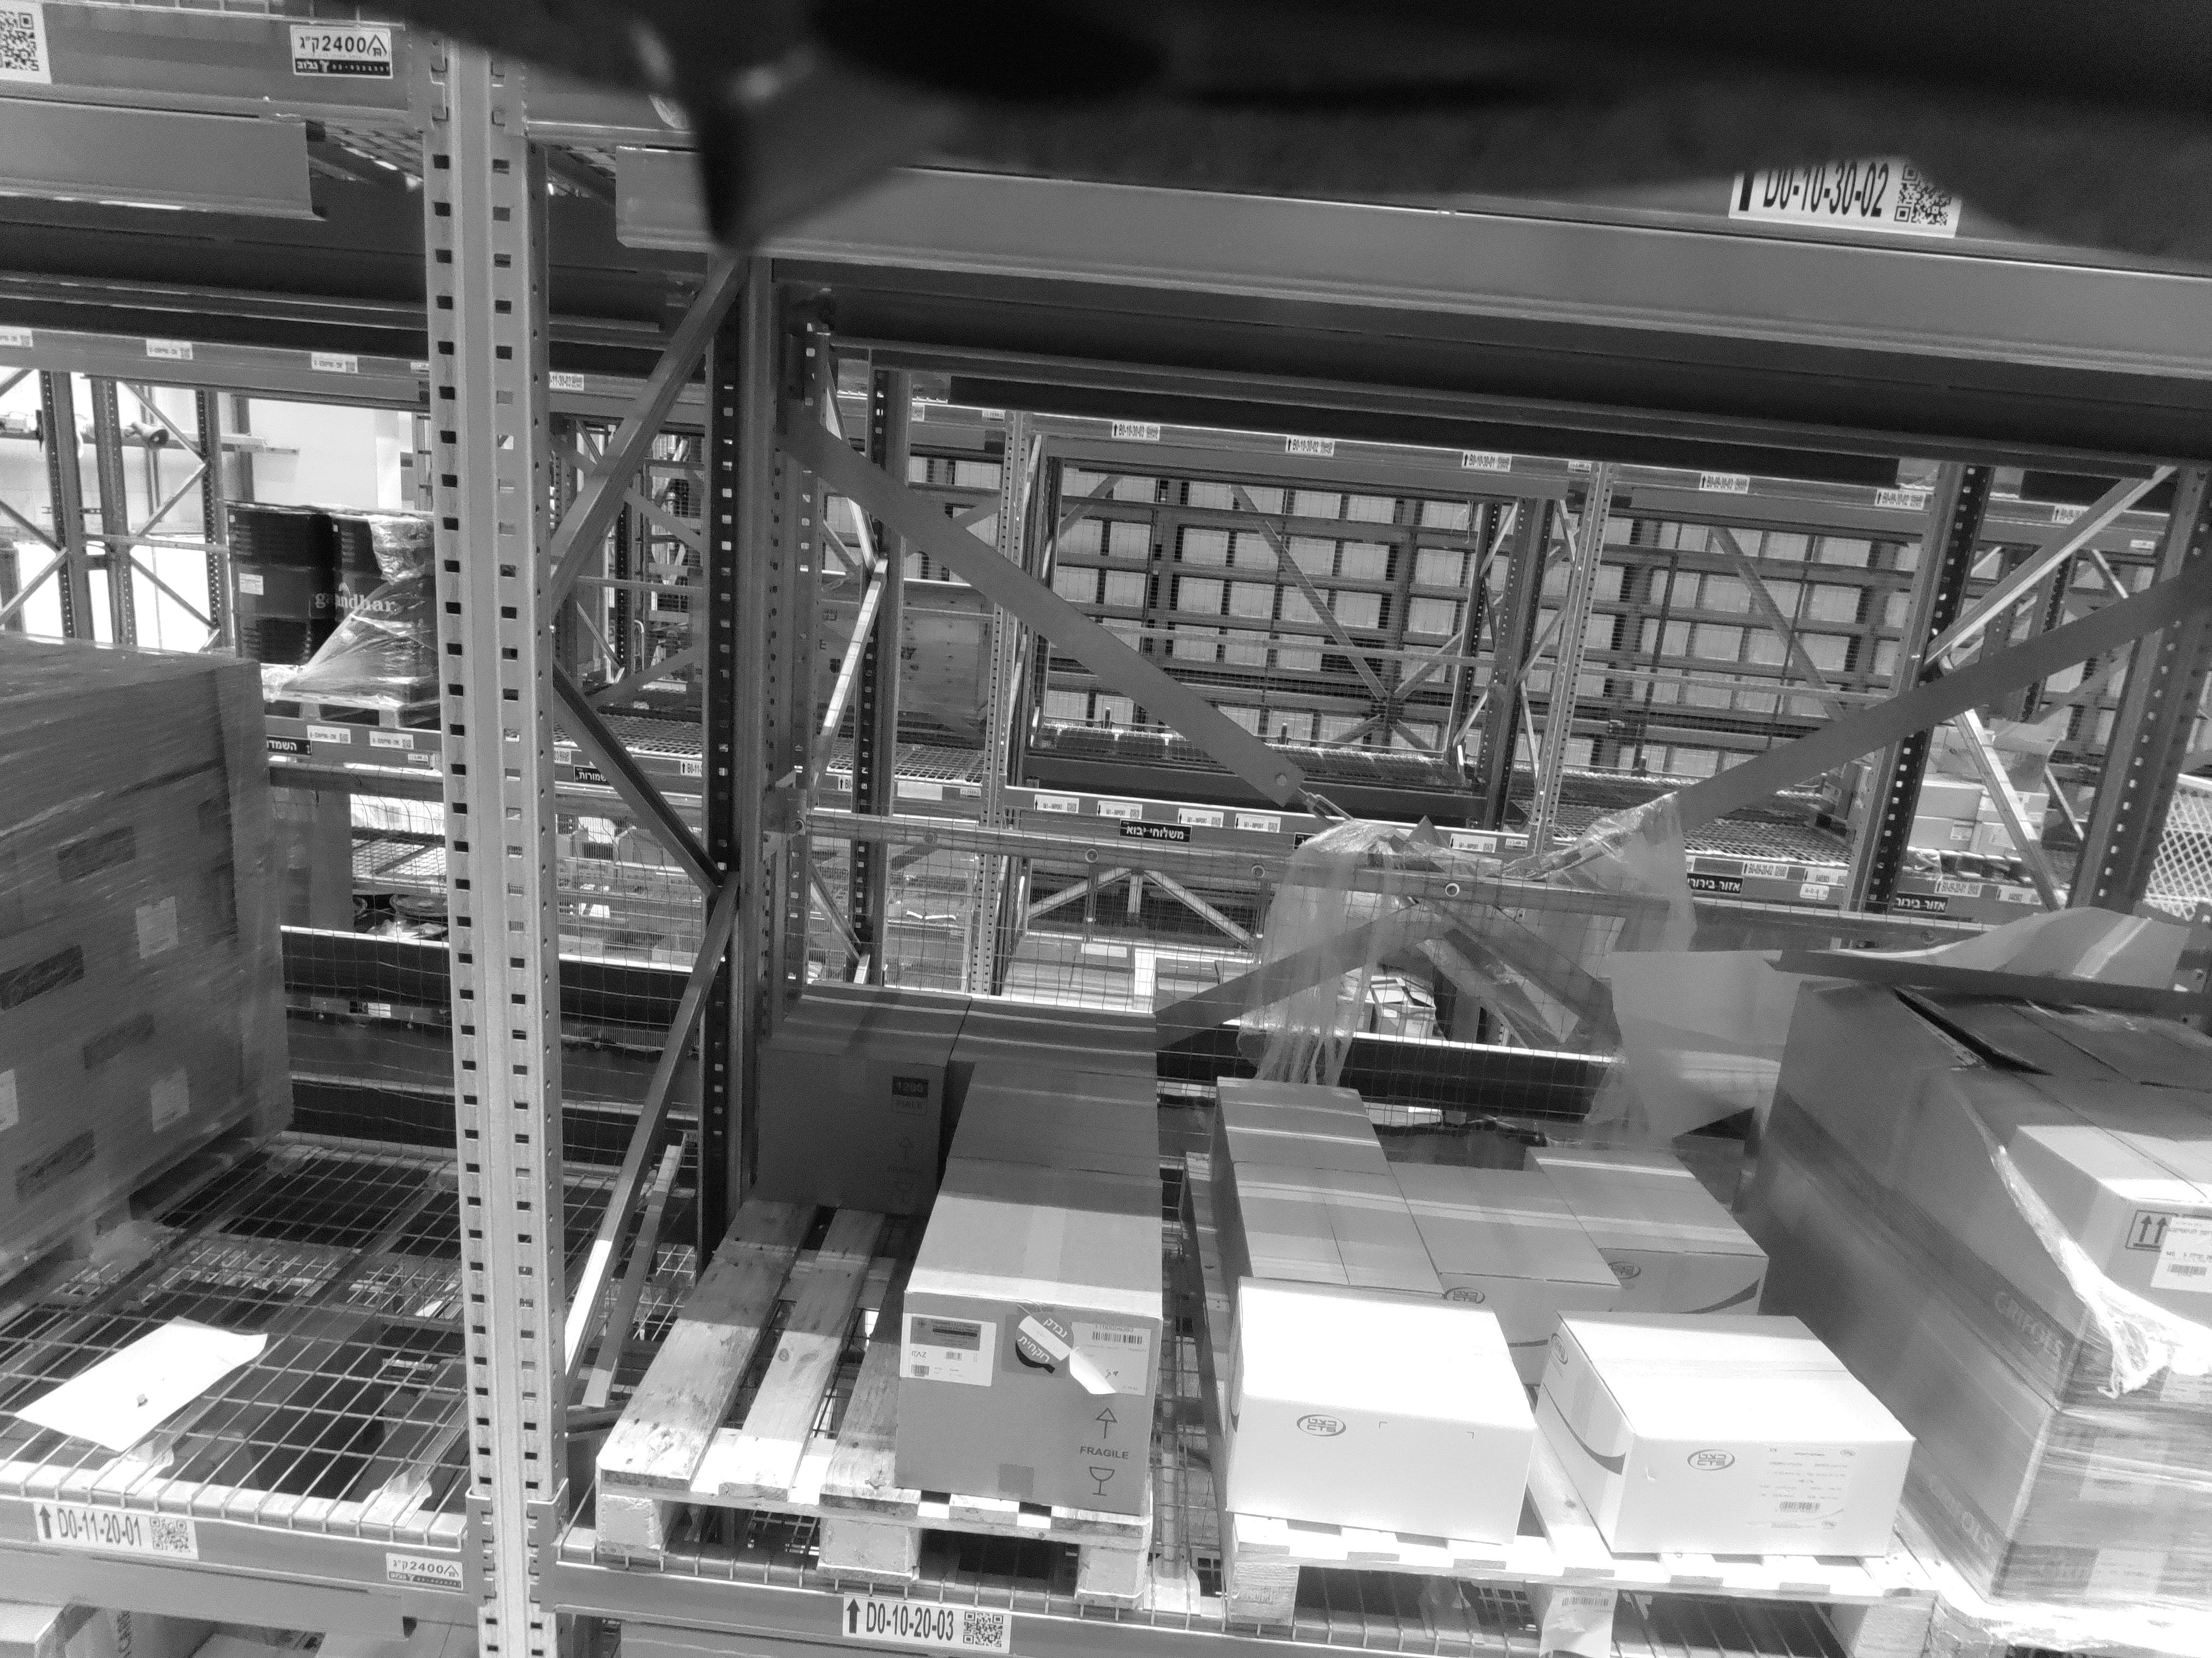empty-shelf: (212, 404, 442, 1407)
